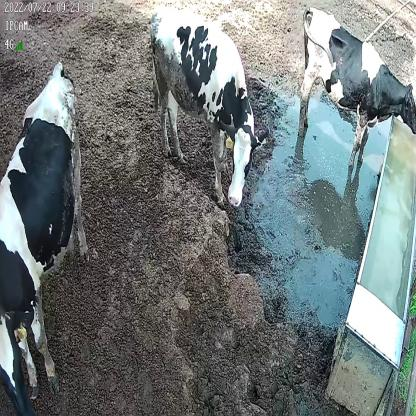cow: (0, 61, 89, 414), (149, 8, 270, 210), (298, 6, 416, 167)
